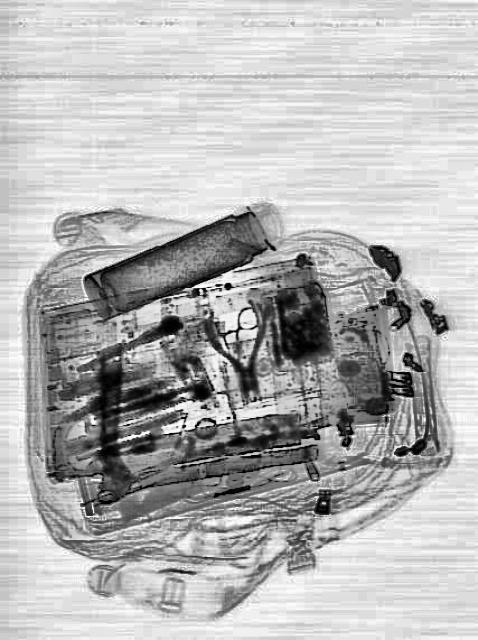Pliers: (199, 299, 287, 415)
